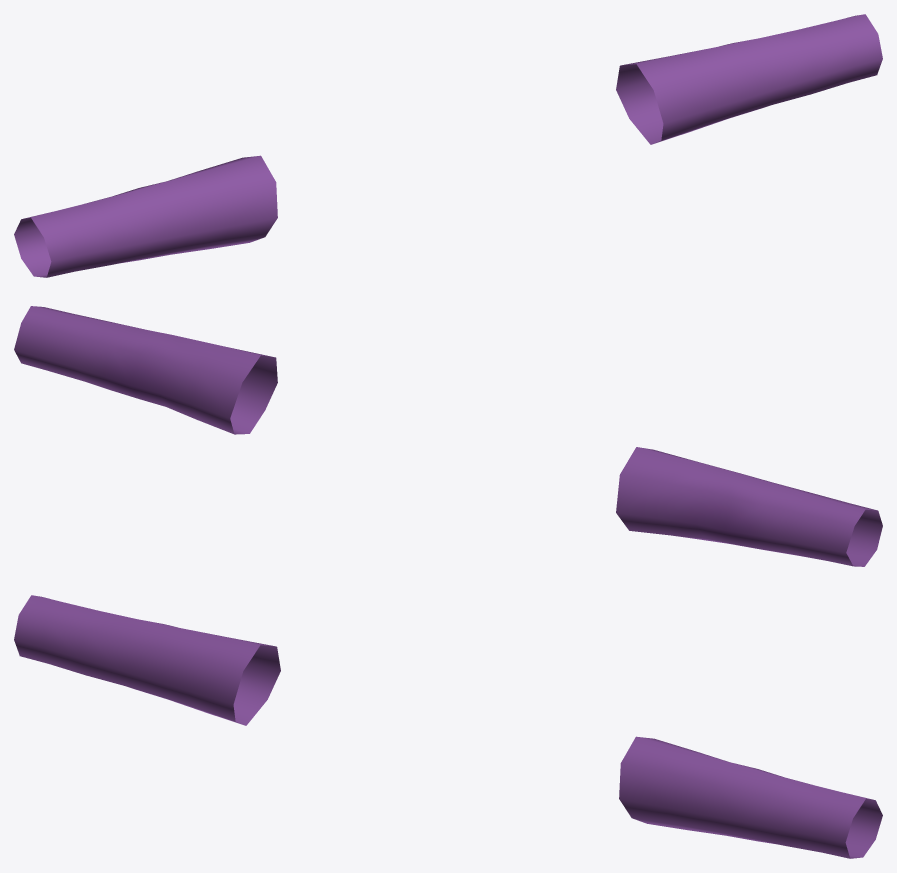
File: Body_Purple_ArmA_2.fbx
3 views of the same model, one above another, from view 1: azimuth 30°, elevation 25°; view 2: azimuth 150°, elevation 25°; view 3: azimuth 330°, elevation 25° (orthographic).
Visible parts, largest first — view 1: Body_Purple_ArmA_2; view 2: Body_Purple_ArmA_2; view 3: Body_Purple_ArmA_2.
Boxes of the visible parts, bbox=[...] form: Body_Purple_ArmA_2: bbox=[14, 14, 882, 277]; Body_Purple_ArmA_2: bbox=[14, 306, 882, 566]; Body_Purple_ArmA_2: bbox=[14, 595, 882, 858].
Size of the model in its own units: 95.86 by 9.1 by 9.47.
